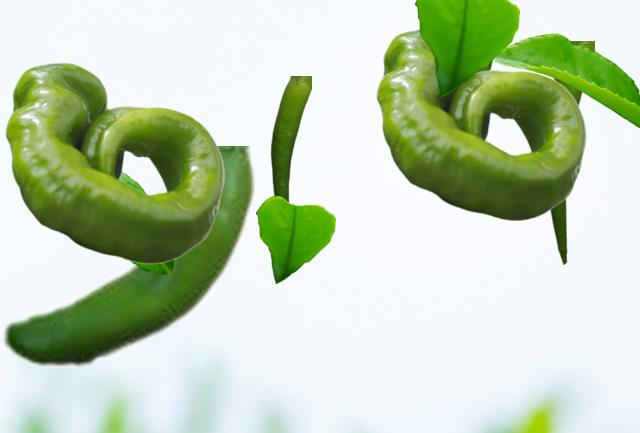green_chili: (0, 146, 253, 369), (5, 62, 223, 263), (376, 28, 585, 220), (549, 41, 593, 264), (270, 76, 310, 201)
